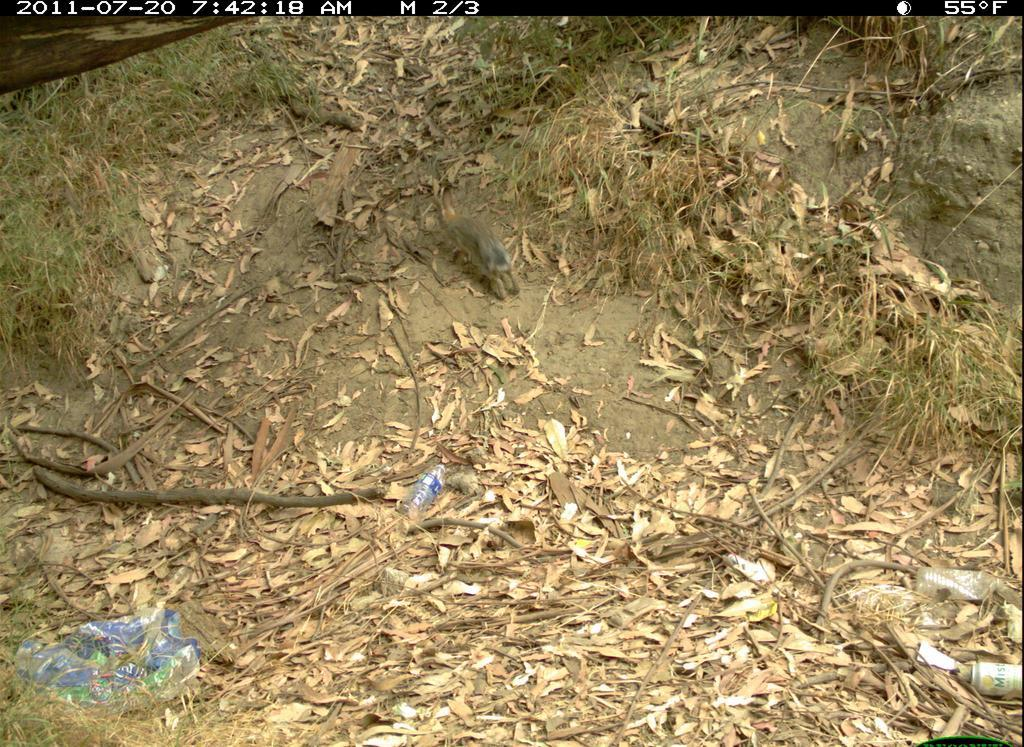rabbit: (425, 180, 527, 306)
